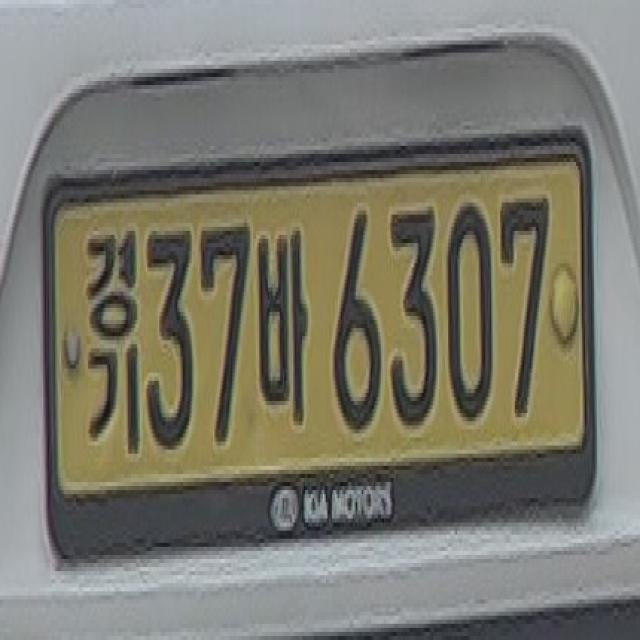plat: (42, 125, 596, 555)
